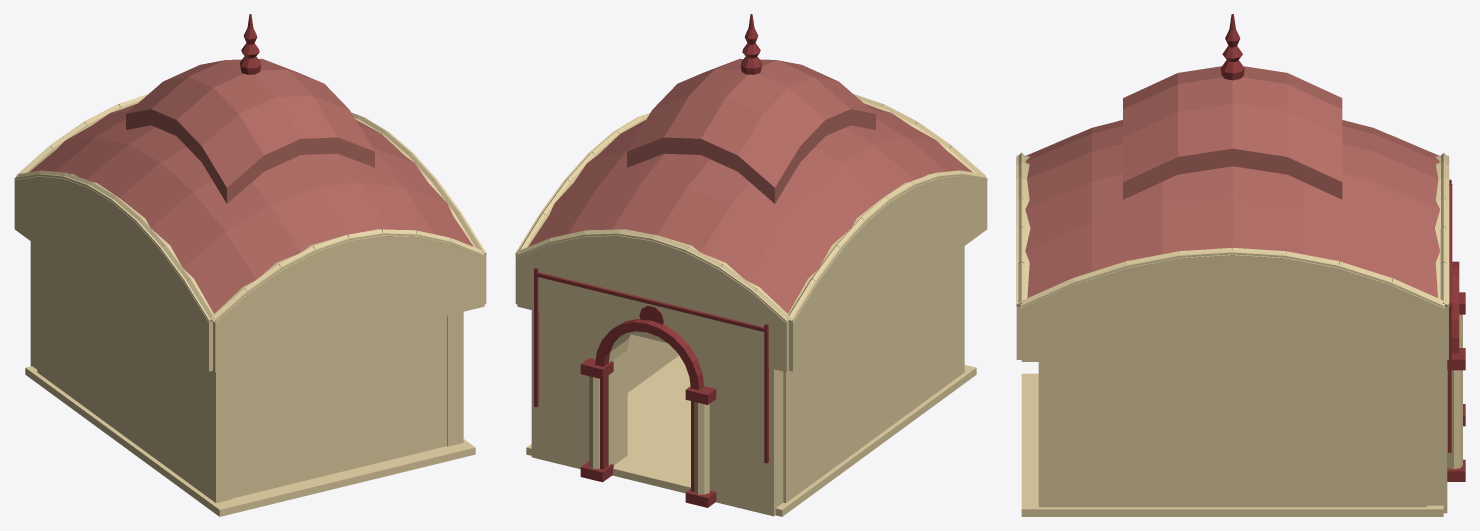
File: KOL_T1_DAKSHINESHWAR__10_Shiva_Temple_Master.fbx
The picture shows the model from 3 angles, left to right: view 1: azimuth 30°, elevation 25°; view 2: azimuth 150°, elevation 25°; view 3: azimuth 270°, elevation 25°; orthographic projection. The views are drawn at different scales.
Visible parts, largest first — view 1: KOL_T1_DAKSHINESHWAR__10_Shiva_Temple_Master__KOL_T1_TempleC, KOL_T1_DAKSHINESHWAR__10_Shiva_Temple_Master__KOL_T1_TempleR (×2); view 2: KOL_T1_DAKSHINESHWAR__10_Shiva_Temple_Master__KOL_T1_TempleC, KOL_T1_DAKSHINESHWAR__10_Shiva_Temple_Master__KOL_T1_TempleR (×2); view 3: KOL_T1_DAKSHINESHWAR__10_Shiva_Temple_Master__KOL_T1_TempleC, KOL_T1_DAKSHINESHWAR__10_Shiva_Temple_Master__KOL_T1_TempleR (×2).
Boxes of the visible parts, bbox=[...] form: KOL_T1_DAKSHINESHWAR__10_Shiva_Temple_Master__KOL_T1_TempleC: bbox=[14, 94, 486, 516]; KOL_T1_DAKSHINESHWAR__10_Shiva_Temple_Master__KOL_T1_TempleR (×2): bbox=[29, 14, 473, 313]; KOL_T1_DAKSHINESHWAR__10_Shiva_Temple_Master__KOL_T1_TempleC: bbox=[515, 94, 987, 516]; KOL_T1_DAKSHINESHWAR__10_Shiva_Temple_Master__KOL_T1_TempleR (×2): bbox=[528, 14, 972, 507]; KOL_T1_DAKSHINESHWAR__10_Shiva_Temple_Master__KOL_T1_TempleC: bbox=[1016, 119, 1462, 516]; KOL_T1_DAKSHINESHWAR__10_Shiva_Temple_Master__KOL_T1_TempleR (×2): bbox=[1025, 14, 1465, 481].
Bounding box in the file's own units: 20.64 × 28.4 × 26.62.
